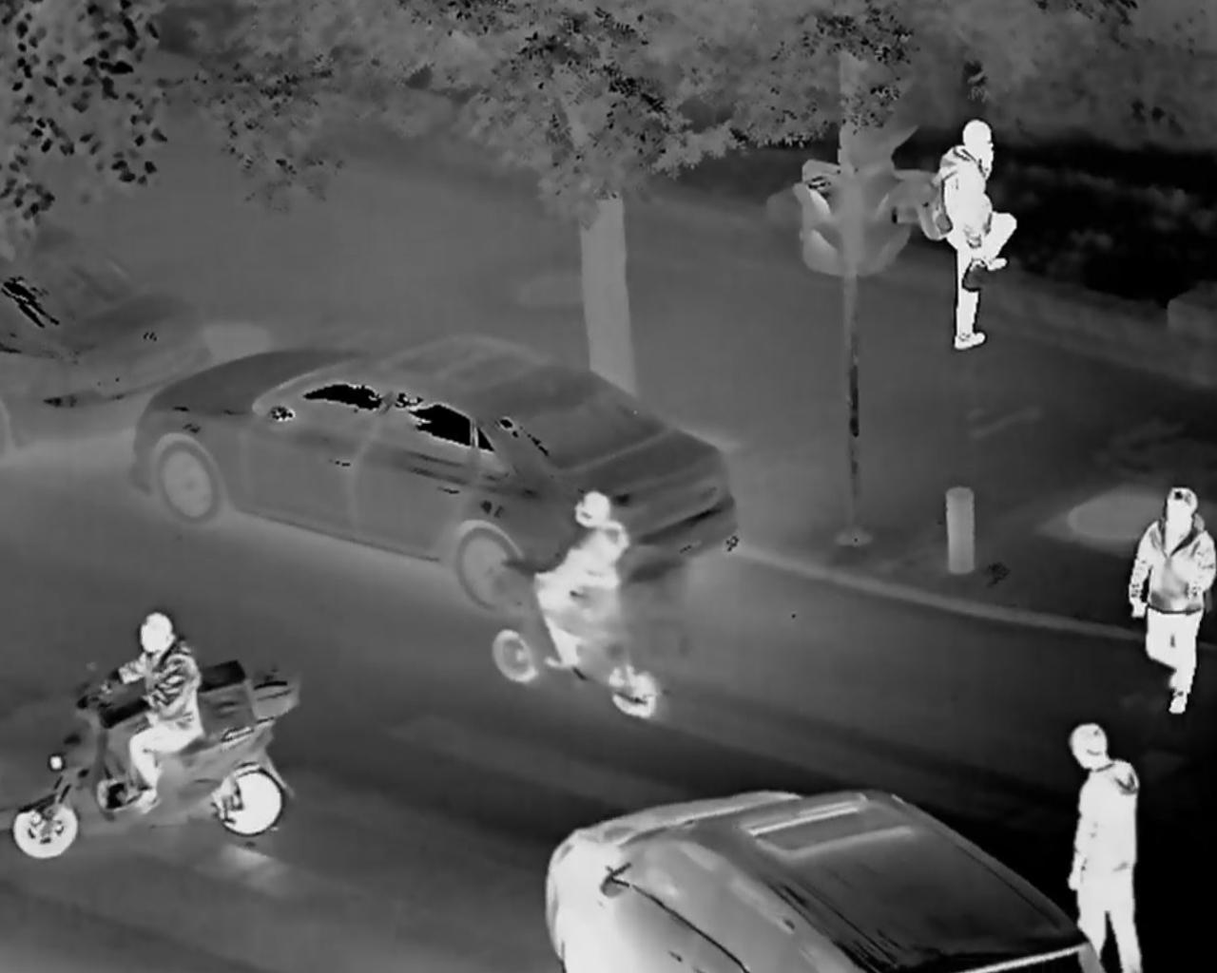person: (1064, 722, 1155, 973), (98, 611, 210, 808), (929, 119, 1019, 362), (1128, 482, 1217, 715), (530, 489, 635, 682)
